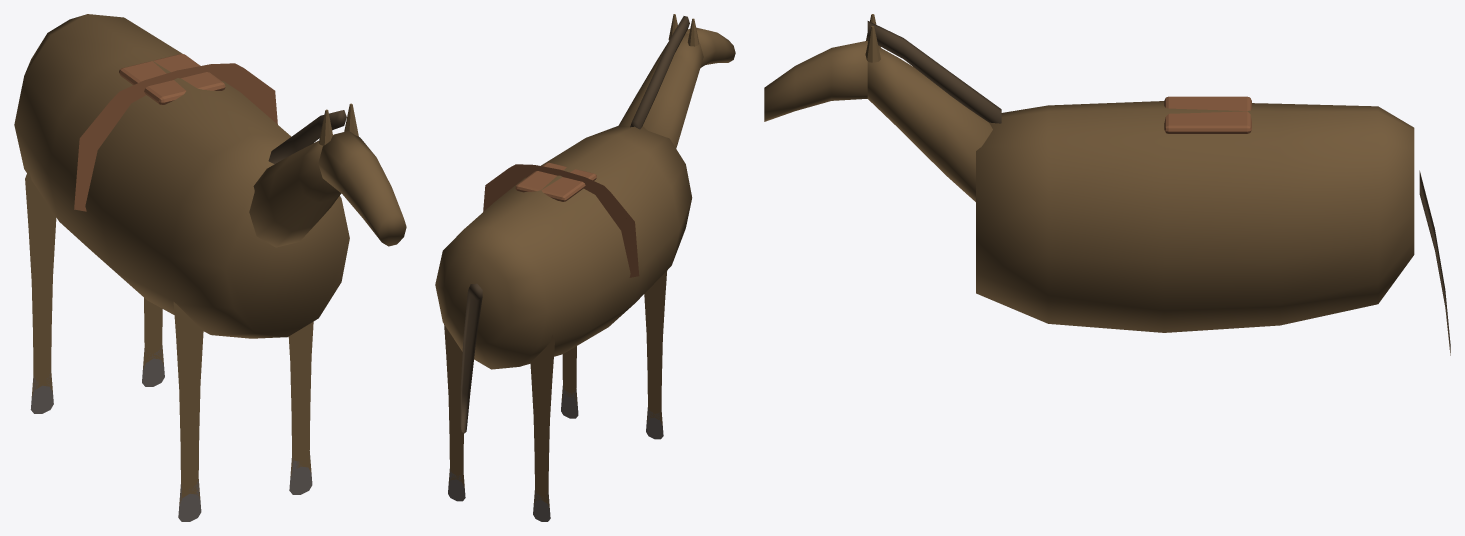
Rendered from horse.glb.
The picture shows the model from 3 angles, left to right: view 1: azimuth 30°, elevation 25°; view 2: azimuth 150°, elevation 25°; view 3: azimuth 270°, elevation 25°; orthographic projection. The views are drawn at different scales.
Parts seen in each view (by area): view 1: torso, neck, head, legBL, girth, legFL, legFR, saddle, legBR, mane; view 2: torso, neck, legBL, girth, legFL, legBR, tail, saddle, mane, legFR, head; view 3: torso, neck, head, saddle, mane, tail.
Part boxes in pixels (box(x1,y1,x2,y2)): torso: box(14, 14, 349, 338); neck: box(249, 134, 340, 247); head: box(318, 131, 406, 246); legBL: box(25, 169, 56, 413); girth: box(74, 63, 277, 211); legFL: box(173, 302, 203, 521); legFR: box(288, 321, 313, 494); saddle: box(119, 54, 225, 104); legBR: box(142, 298, 164, 386); mane: box(268, 110, 346, 163); torso: box(435, 125, 692, 369); neck: box(618, 33, 703, 148); legBL: box(530, 334, 554, 521); girth: box(483, 164, 639, 277); legFL: box(644, 271, 666, 439); legBR: box(444, 324, 465, 501); tail: box(460, 283, 482, 433); saddle: box(515, 162, 596, 201); mane: box(630, 16, 689, 129); legFR: box(561, 346, 578, 418); head: box(686, 27, 735, 67); torso: box(976, 101, 1414, 332); neck: box(867, 41, 992, 201); head: box(764, 40, 867, 121); saddle: box(1164, 96, 1251, 133); mane: box(867, 21, 1001, 123); tail: box(1419, 170, 1450, 355).
Bounding box in the file's own units: 0.93 × 2.02 × 2.66.
